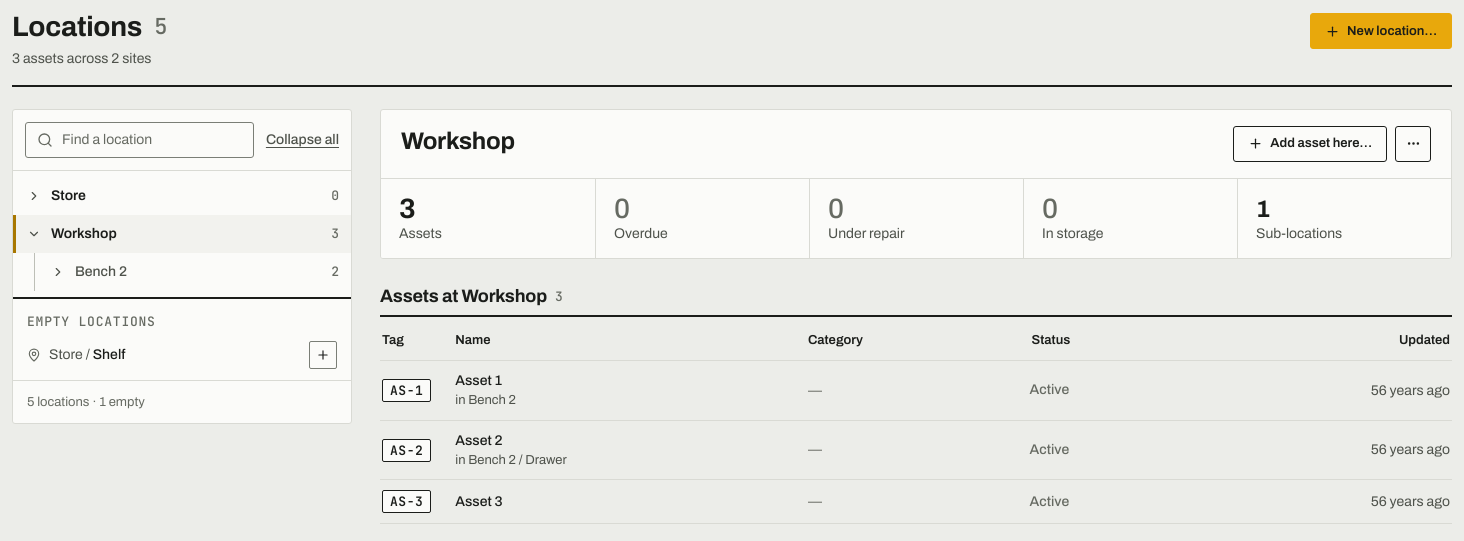
Test: LocationsPageClient › blocks deleting a location that still holds assets or sub-locations
The image size is (1464, 541).
Expected: the element with test id "location-detail" is shown, top-left (380, 109), bottom-right (1452, 259)
Click the button named "Location actions": (1413, 144) top-left (1395, 126), bottom-right (1431, 162)
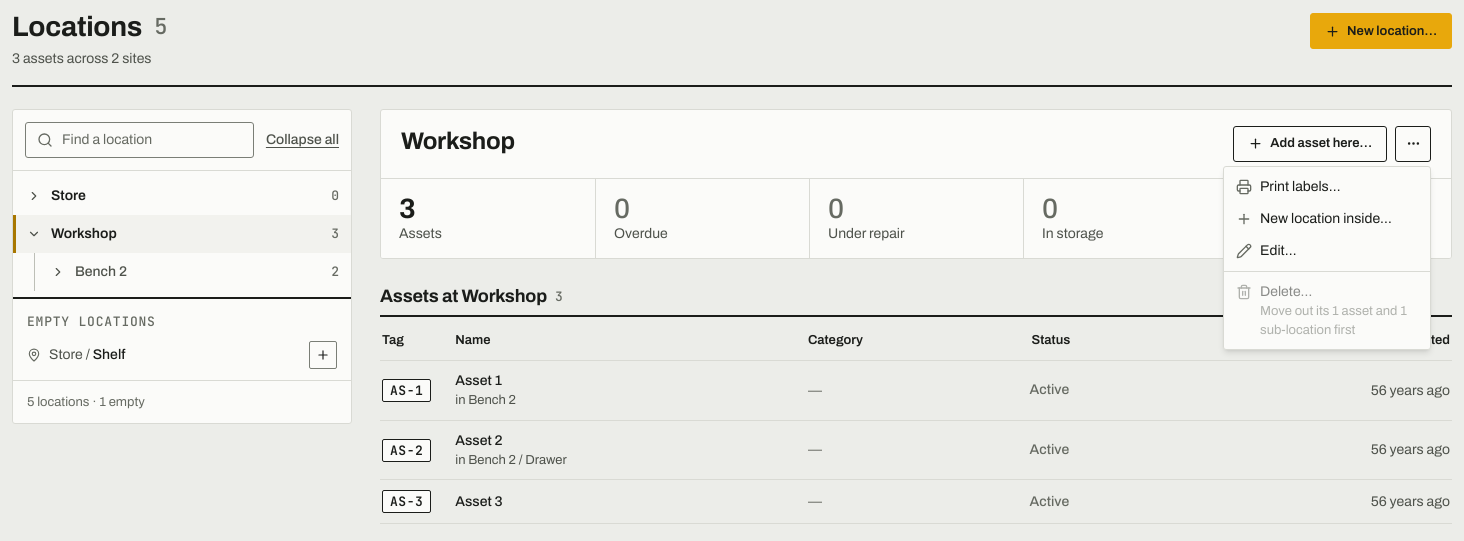
Expected: the menu item "Delete… Move out its 1 asset and 1 sub-location first" is shown, top-left (1228, 276), bottom-right (1426, 345)
